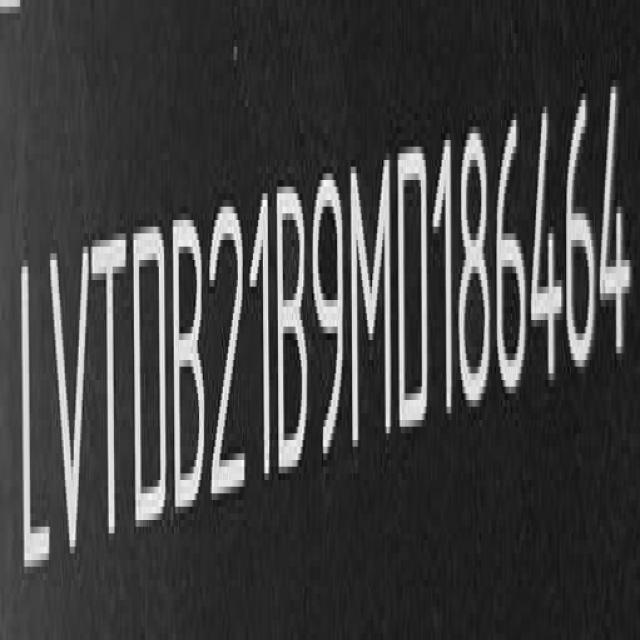1: (252, 190, 275, 499), (434, 133, 453, 434)
2: (210, 198, 248, 508)
4: (601, 69, 632, 373), (530, 110, 563, 384)
6: (496, 112, 530, 405), (564, 96, 597, 364)
8: (458, 127, 493, 420)
9: (314, 171, 346, 474)
B: (172, 206, 208, 523), (278, 178, 309, 488)
D: (130, 216, 168, 538), (397, 136, 432, 446)
L: (16, 242, 52, 588)
M: (352, 153, 394, 457)
T: (90, 214, 131, 544)
V: (49, 233, 92, 577)
